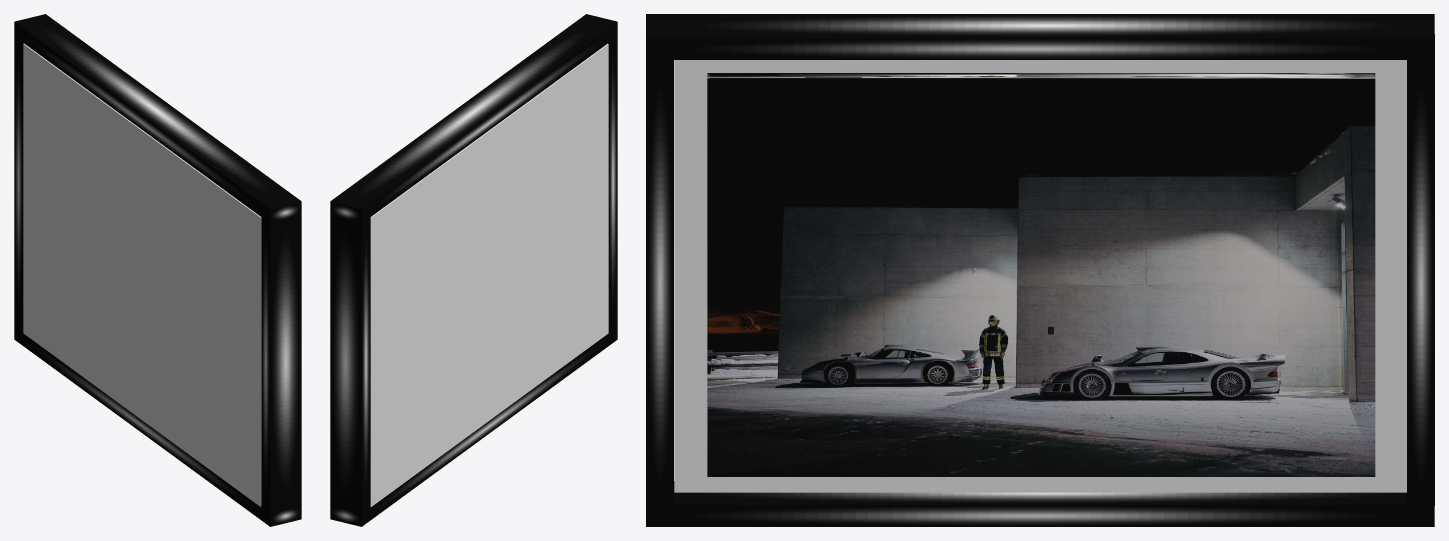
Rendered from frame-image8.glb.
The picture shows the model from 3 angles, left to right: view 1: azimuth 30°, elevation 25°; view 2: azimuth 150°, elevation 25°; view 3: azimuth 270°, elevation 25°; orthographic projection. The views are drawn at different scales.
Parts seen in each view (by area): view 1: Cube, Cube (1), Cube (3), Cube (4), Cube (2); view 2: Cube, Cube (1), Cube (2), Cube (4), Cube (3); view 3: image, Cube, Cube (1), Cube (4), Cube (2), Cube (3).
Part boxes in pixels (x1=…): Cube: x1=23, y1=43, x2=261, y2=506; Cube (1): x1=14, y1=14, x2=301, y2=223; Cube (3): x1=261, y1=215, x2=301, y2=513; Cube (4): x1=14, y1=326, x2=301, y2=526; Cube (2): x1=14, y1=35, x2=23, y2=331; Cube: x1=370, y1=43, x2=608, y2=506; Cube (1): x1=330, y1=14, x2=617, y2=221; Cube (2): x1=330, y1=214, x2=370, y2=513; Cube (4): x1=330, y1=326, x2=617, y2=526; Cube (3): x1=608, y1=35, x2=617, y2=331; image: x1=707, y1=73, x2=1375, y2=476; Cube: x1=674, y1=60, x2=1406, y2=492; Cube (1): x1=646, y1=14, x2=1434, y2=59; Cube (4): x1=646, y1=481, x2=1434, y2=526; Cube (2): x1=1407, y1=34, x2=1434, y2=505; Cube (3): x1=646, y1=60, x2=673, y2=504.
Bounding box in the file's own units: 20.01 × 193 × 282.
3 materials, 2 textured.
